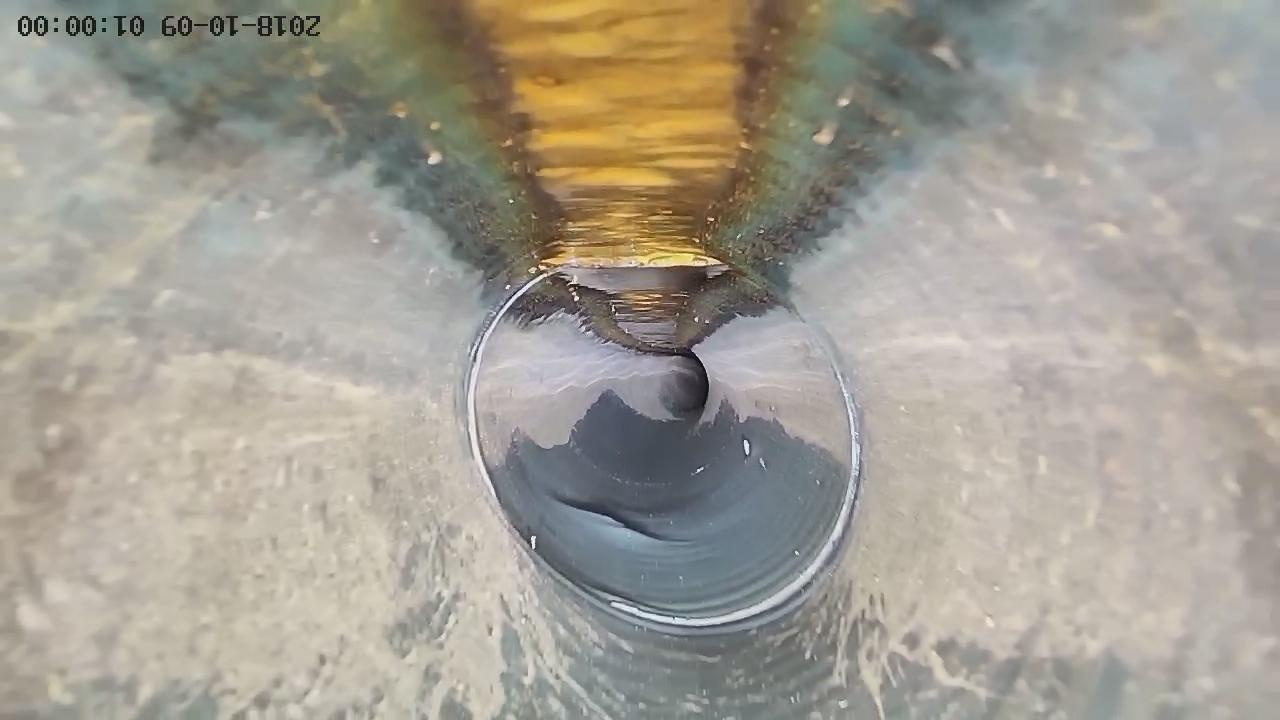BX: (530, 490, 701, 571)
CKTJ: (529, 318, 866, 635), (464, 272, 551, 554)
